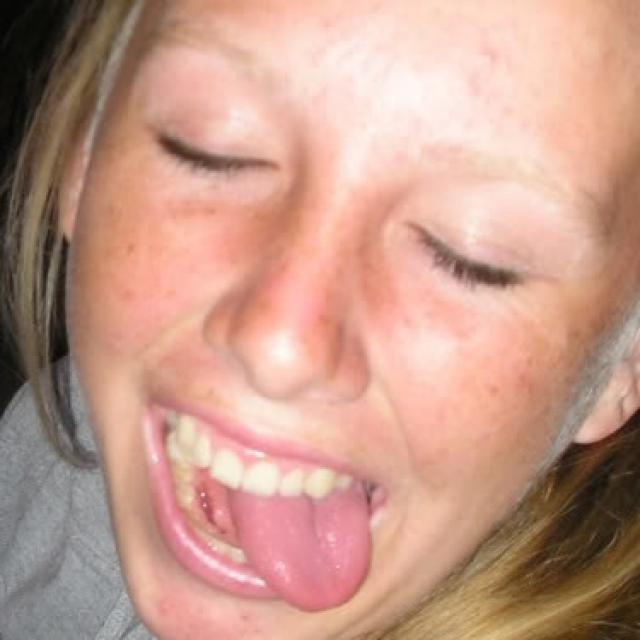close: (111, 19, 294, 198), (382, 144, 569, 312)
